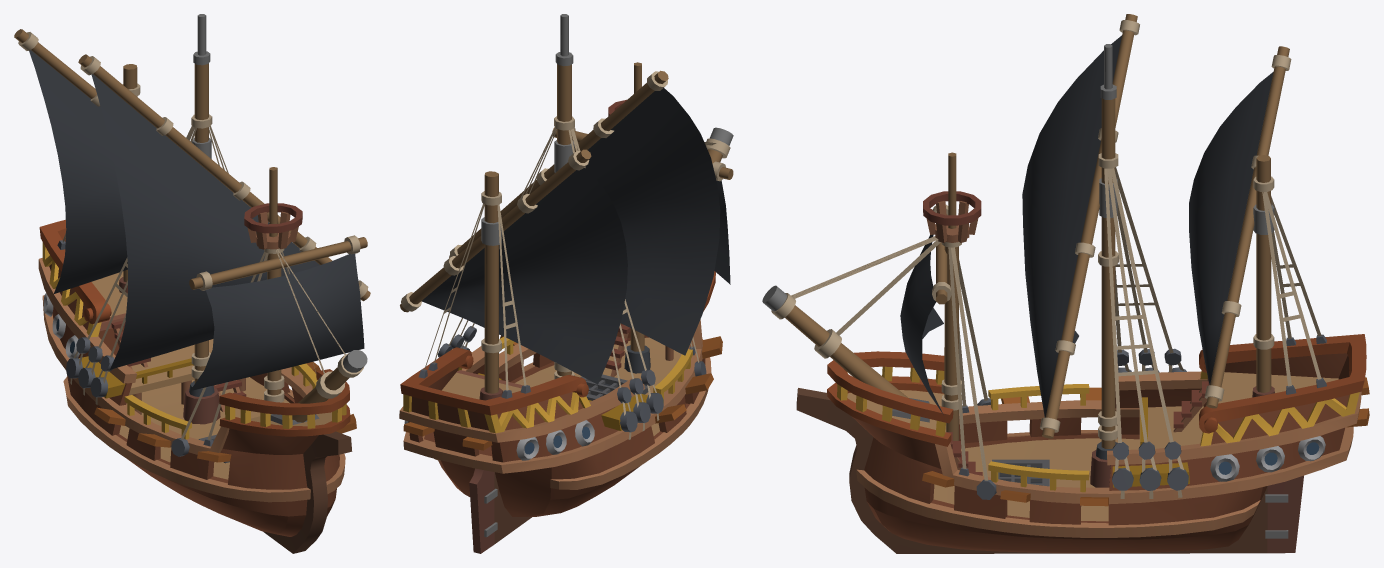
Rendered from Caravel.fbx.
3 renders of one model, left to right at view 1: azimuth 30°, elevation 25°; view 2: azimuth 150°, elevation 25°; view 3: azimuth 270°, elevation 25°, orthographic. The views are drawn at different scales.
Parts seen in each view (by area): view 1: Caravel, Sails_Black, Upgrade_02, Upgrade_01; view 2: Caravel, Sails_Black, Upgrade_02, Rudder, Upgrade_01; view 3: Caravel, Sails_Black, Upgrade_02, Upgrade_01, Rudder.
Part boxes in pixels (x1=…): Caravel: x1=14, y1=14, x2=370, y2=553; Sails_Black: x1=29, y1=50, x2=364, y2=390; Upgrade_02: x1=63, y1=376, x2=345, y2=502; Upgrade_01: x1=124, y1=363, x2=317, y2=439; Caravel: x1=399, y1=14, x2=733, y2=543; Sails_Black: x1=421, y1=88, x2=730, y2=384; Upgrade_02: x1=434, y1=339, x2=711, y2=489; Rudder: x1=469, y1=468, x2=497, y2=553; Upgrade_01: x1=499, y1=336, x2=692, y2=402; Caravel: x1=762, y1=14, x2=1369, y2=553; Sails_Black: x1=900, y1=35, x2=1273, y2=417; Upgrade_02: x1=856, y1=430, x2=1260, y2=537; Upgrade_01: x1=988, y1=384, x2=1089, y2=492; Rudder: x1=1265, y1=475, x2=1303, y2=553.
Bounding box in the file's own units: 614 × 1076 × 1171.
